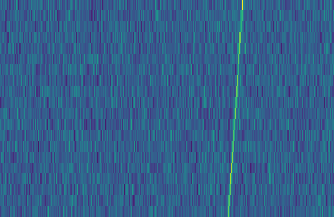signal: (224, 0, 248, 217)
